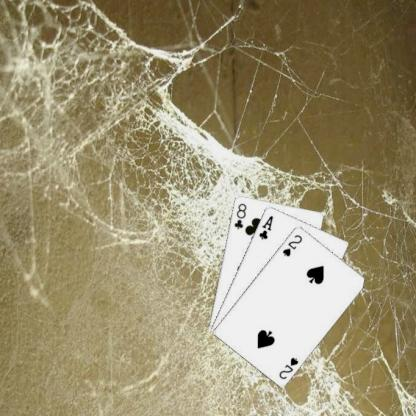2S: (276, 354, 300, 380), (280, 232, 303, 258)
8C: (231, 200, 248, 230)
AC: (256, 213, 275, 240)
